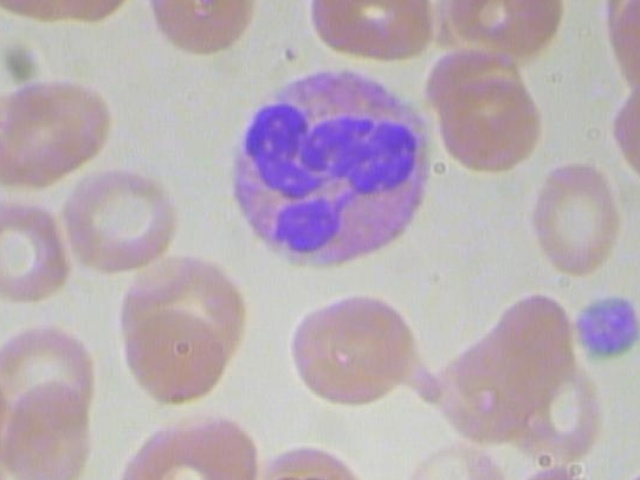Platelets: (571, 289, 640, 363)
RBC: (292, 286, 438, 411), (60, 157, 186, 278), (0, 69, 124, 182), (521, 155, 626, 280), (119, 299, 232, 406), (117, 403, 262, 480), (436, 75, 551, 172), (0, 380, 98, 480), (307, 0, 439, 70), (0, 185, 77, 304), (443, 0, 567, 55), (143, 0, 267, 55), (237, 440, 386, 480), (404, 440, 514, 480), (510, 457, 605, 480)
WBC: (223, 63, 438, 281)
